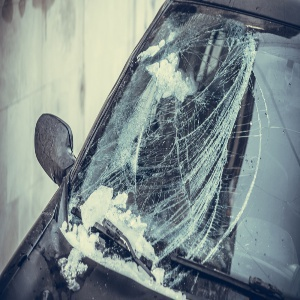front_windshield_glass: (94, 17, 299, 267)
